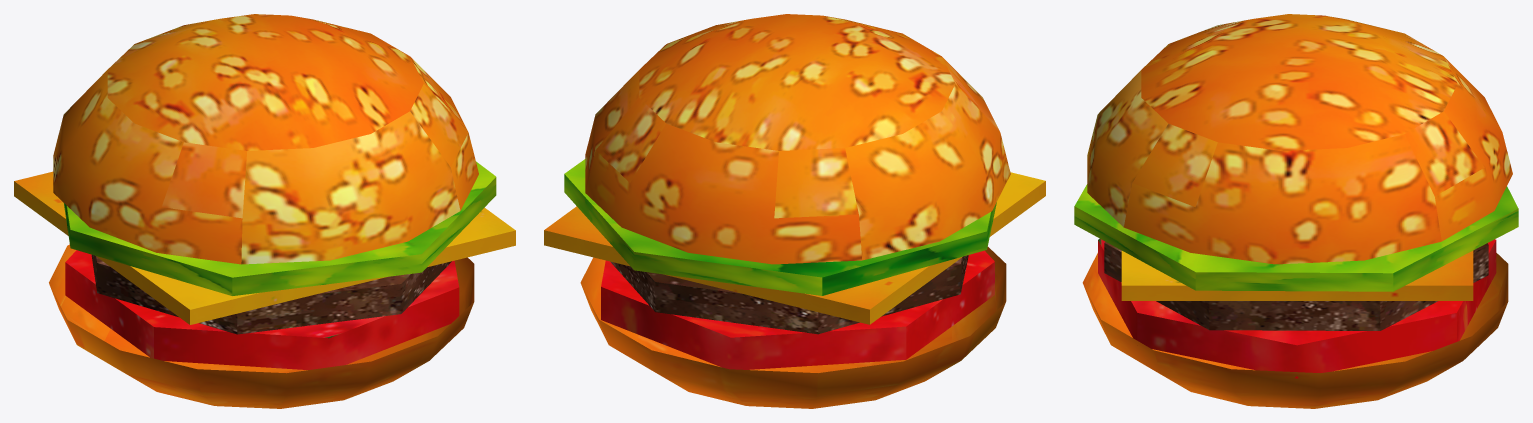
Rendered from Max_Burger.FBX.
3 views of the same model, side by side, from view 1: azimuth 30°, elevation 25°; view 2: azimuth 150°, elevation 25°; view 3: azimuth 270°, elevation 25° (orthographic).
Visible parts, largest first — view 1: Burger; view 2: Burger; view 3: Burger.
Boxes of the visible parts, <box> form: Burger: <box>14,14,515,408</box>; Burger: <box>544,14,1045,408</box>; Burger: <box>1074,14,1518,408</box>.
Bounding box in the file's own units: 30.66 × 25.74 × 31.21.
1 material, 1 textured.
